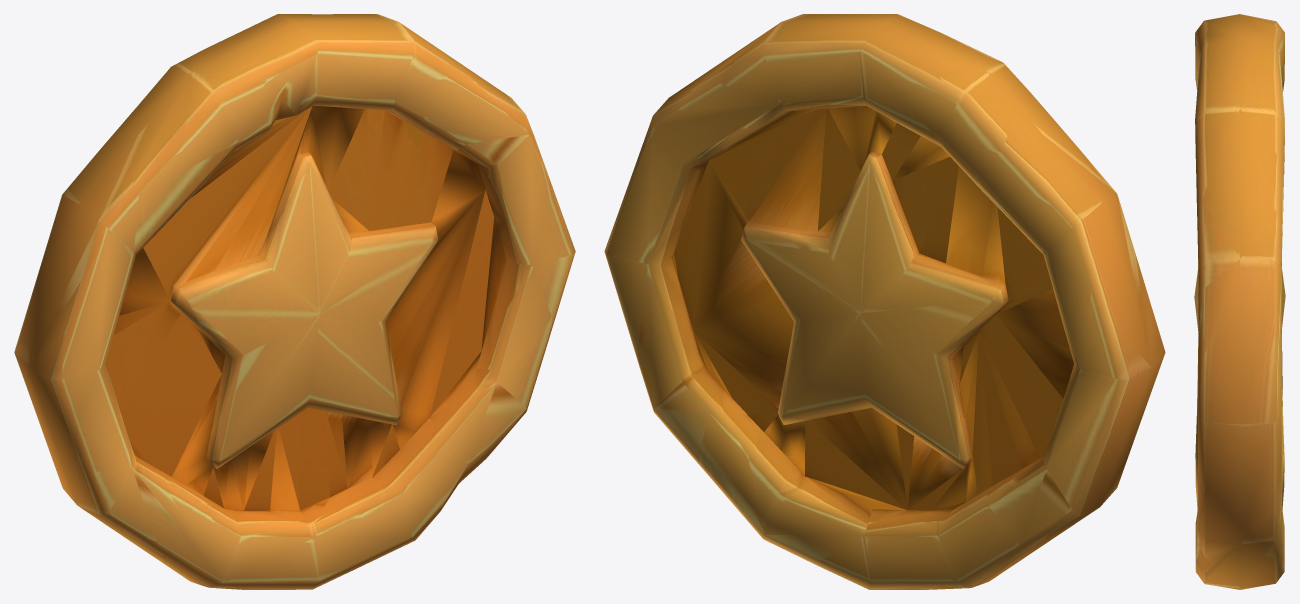
File: star-coin.glb
3 views of the same model, side by side, from view 1: azimuth 30°, elevation 25°; view 2: azimuth 150°, elevation 25°; view 3: azimuth 270°, elevation 25° (orthographic). The views are drawn at different scales.
Parts seen in each view (by area): view 1: coin_star; view 2: coin_star; view 3: coin_star.
Boxes of the visible parts, <box> form: coin_star: <box>14,14,575,589</box>; coin_star: <box>604,14,1165,589</box>; coin_star: <box>1194,14,1285,589</box>.
Bounding box in the file's own units: 0.9 × 0.9037 × 0.1418.
Materials: 1 (1 with a texture image).
